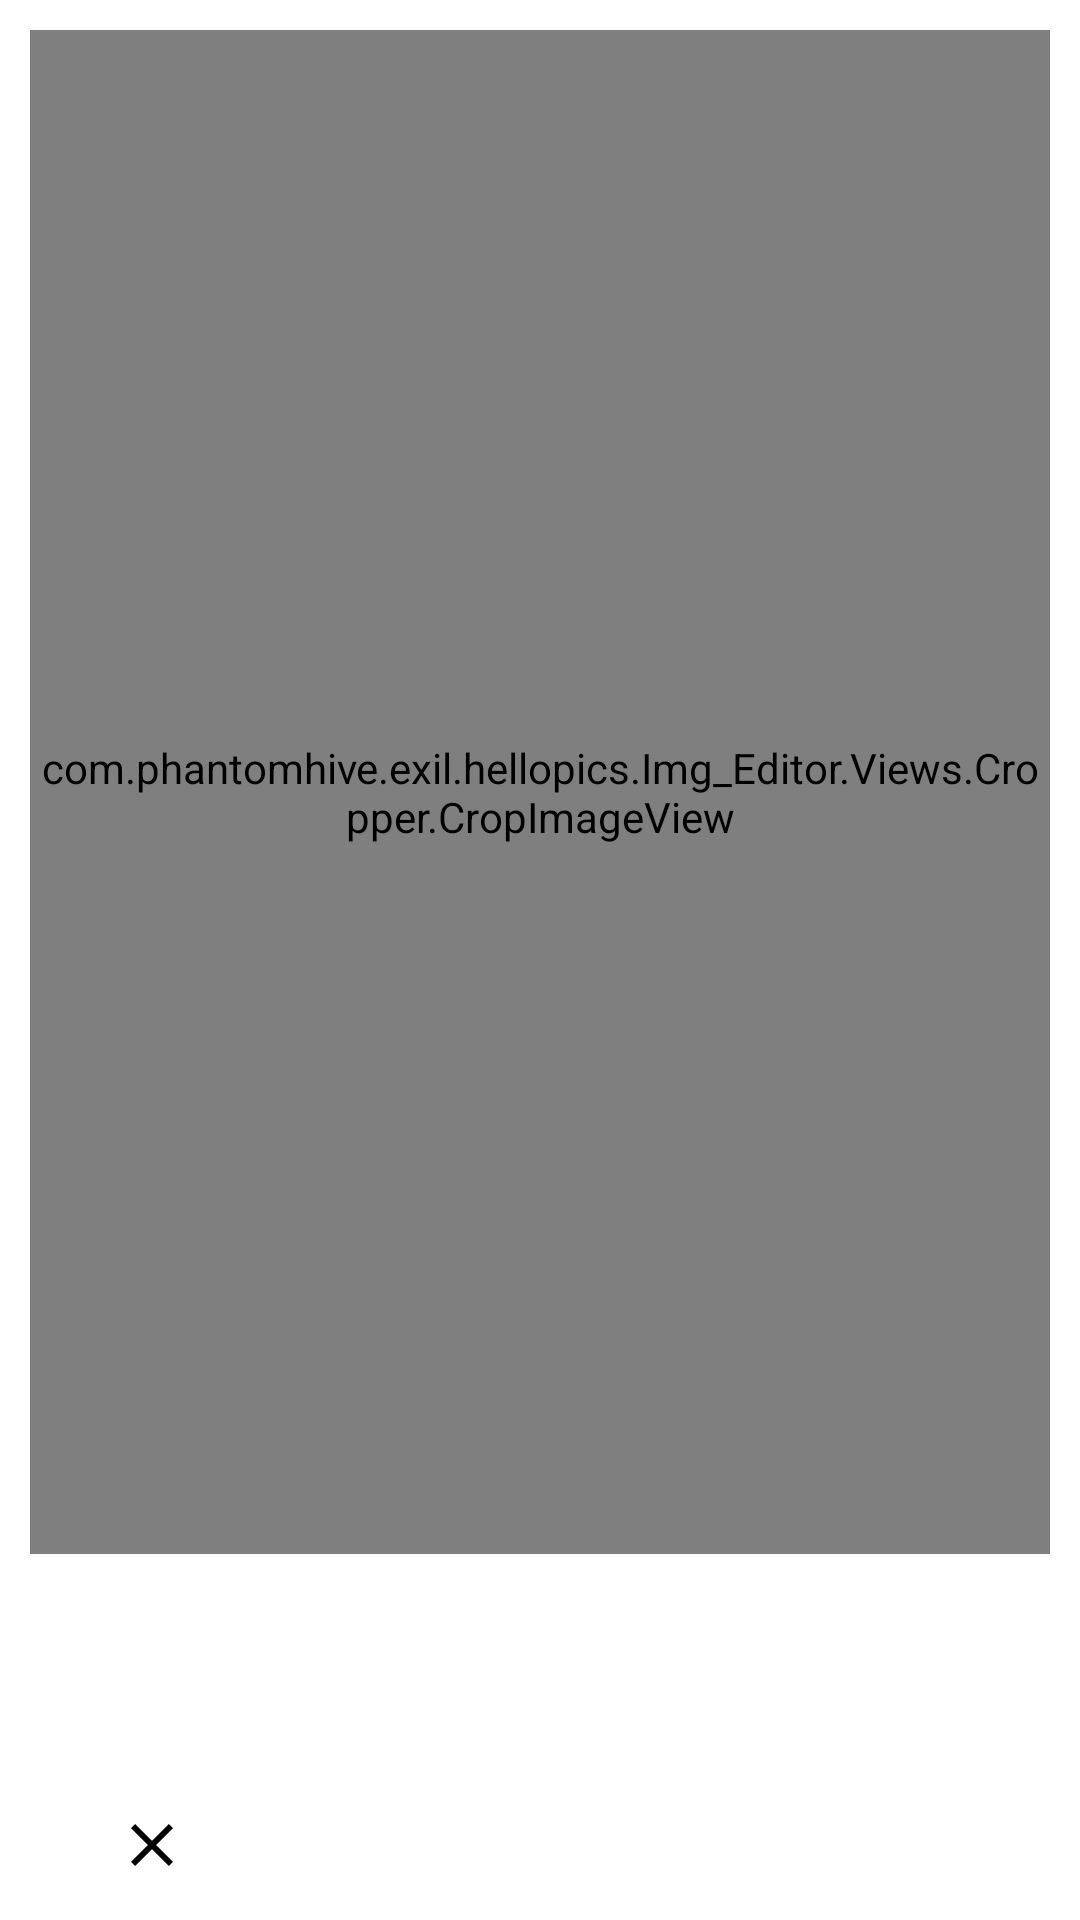

Where to tap for icons on this 1080 x 1920 app screen, as (x=x, y=y):
close: (x=152, y=1845)
